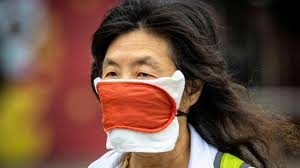mask: (94, 5, 223, 157)
